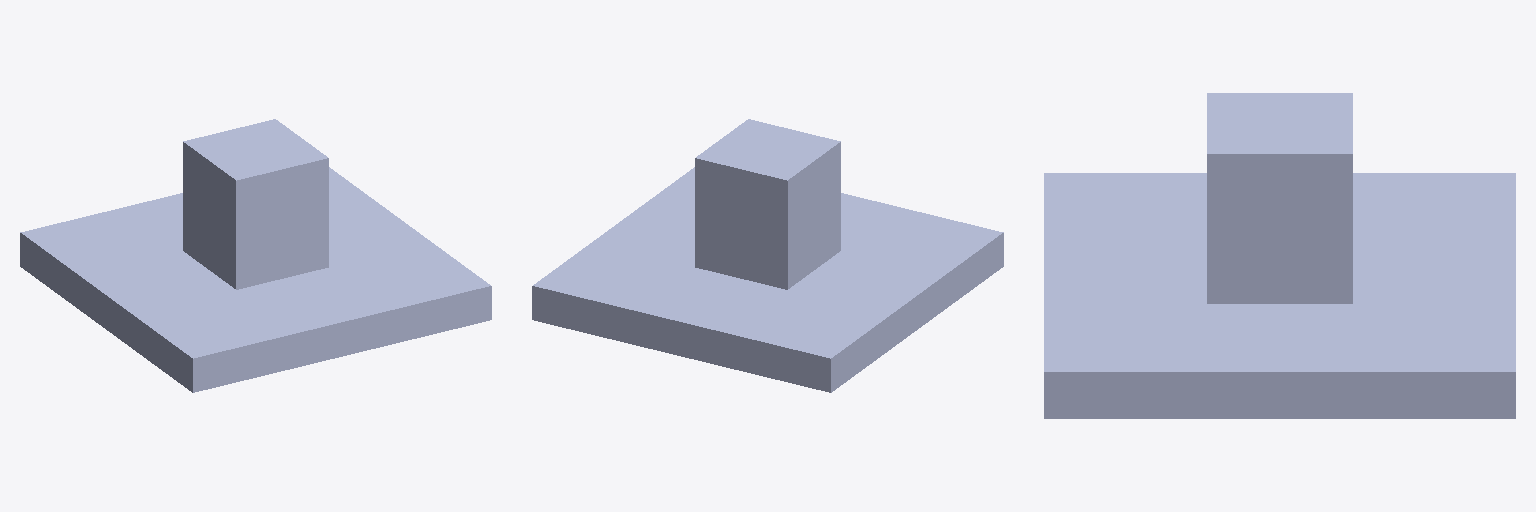
robot.urdf — pedestal:
<robot
  name="pedestal">
  <link
    name="pedestal_description">
    <inertial>
      <origin
        xyz="-4.7138E-17 -9.95858624594052E-18 0.35114"
        rpy="0 0 0" />
      <mass
        value="143.64" />
      <inertia
        ixx="11.252935824593"
        ixy="1.36738999752713E-16"
        ixz="-3.52006097001589E-16"
        iyy="11.252935824593"
        iyz="4.99960915842552E-16"
        izz="18.8720539166667" />
    </inertial>
    <visual>
      <origin
        xyz="0 0 0"
        rpy="-1.5707963267949 0 0" />
      <geometry>
        <mesh
          filename="package://smobex_description/meshes/pedestal_description.STL" />
      </geometry>
      <material
        name="">
        <color
          rgba="0.79216 0.81961 0.93333 1" />
      </material>
    </visual>
    <collision>
      <origin
        xyz="0 0 0"
        rpy="-1.5707963267949 0 0" />
      <geometry>
        <mesh
          filename="package://smobex_description/meshes/pedestal_description.STL" />
      </geometry>
    </collision>
  </link>
</robot>

--- Render facts (derived) ---
The picture shows the robot from 3 angles, left to right: view 1: azimuth 30°, elevation 25°; view 2: azimuth 150°, elevation 25°; view 3: azimuth 270°, elevation 25°; orthographic projection.
Robot: pedestal — 1 links, 0 joints (none); root link pedestal_description; default pose: all joints at 0.
Links seen in each view (by area): view 1: pedestal_description; view 2: pedestal_description; view 3: pedestal_description.
Link boxes in pixels (x1,y1,x2,y2): pedestal_description: (20,119,491,392); pedestal_description: (532,119,1003,392); pedestal_description: (1044,93,1515,418).
Size in the robot's own frame: 1 by 1 by 0.46 metres.
Meshes: 1 distinct files referenced, 1 mesh visuals loaded (1 binary STL).